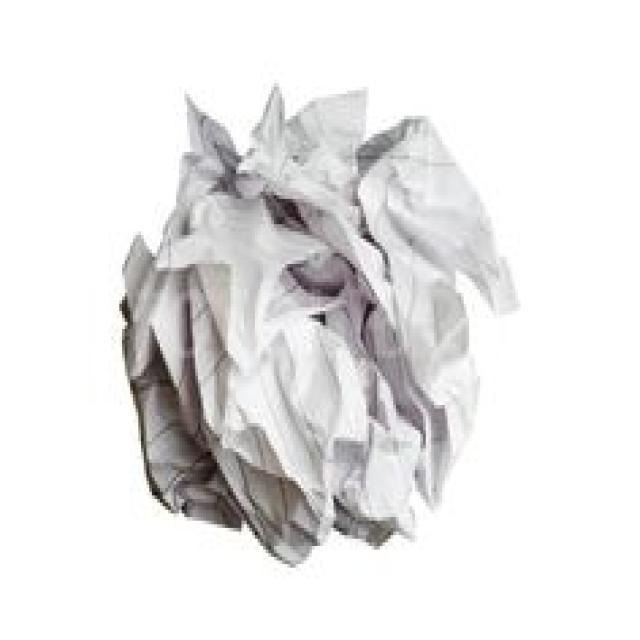Paper: (119, 87, 521, 571)
